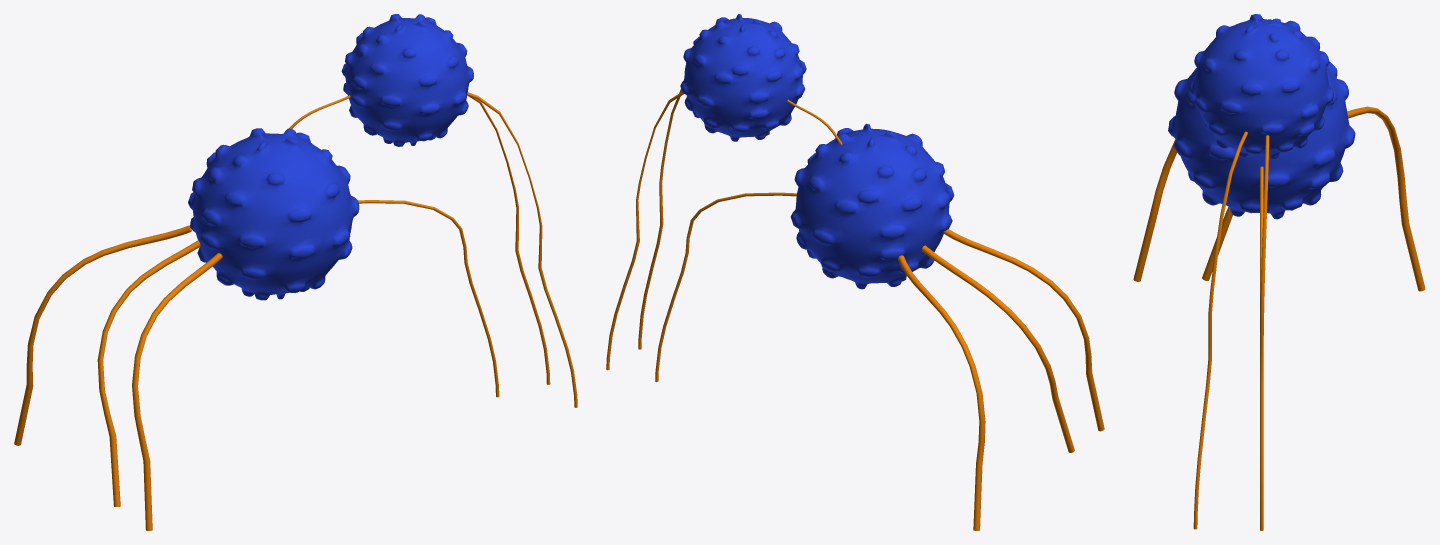
Rendered from ass_scu2_v00_UV.fbx.
3 views of the same model, side by side, from view 1: azimuth 30°, elevation 25°; view 2: azimuth 150°, elevation 25°; view 3: azimuth 270°, elevation 25° (orthographic). The views are drawn at different scales.
Parts seen in each view (by area): view 1: polySurface1, polySurface2, polySurface5, polySurface4, polySurface6, polySurface9, polySurface7, polySurface8; view 2: polySurface1, polySurface2, polySurface4, polySurface5, polySurface6, polySurface7, polySurface8, polySurface9; view 3: polySurface2, polySurface1, polySurface4, polySurface9, polySurface8, polySurface5, polySurface6, polySurface7.
Boxes of the visible parts, x1,y1,x2,y2 form: polySurface1: (188, 128, 359, 300); polySurface2: (341, 14, 473, 146); polySurface5: (132, 253, 222, 530); polySurface4: (14, 225, 191, 445); polySurface6: (97, 240, 200, 506); polySurface9: (467, 92, 577, 407); polySurface7: (358, 200, 499, 397); polySurface8: (467, 95, 550, 384); polySurface1: (790, 123, 954, 289); polySurface2: (680, 14, 806, 141); polySurface4: (897, 255, 985, 530); polySurface5: (943, 229, 1104, 431); polySurface6: (921, 245, 1074, 452); polySurface7: (655, 192, 796, 382); polySurface8: (606, 92, 683, 370); polySurface9: (638, 89, 681, 349); polySurface2: (1189, 14, 1333, 159); polySurface1: (1168, 61, 1355, 219); polySurface4: (1347, 106, 1425, 291); polySurface9: (1193, 131, 1247, 529); polySurface8: (1260, 135, 1269, 530); polySurface5: (1133, 139, 1177, 281); polySurface6: (1202, 206, 1232, 280); polySurface7: (1260, 166, 1263, 332).
Bounding box in the file's own units: 33.42 × 27.73 × 16.81.
